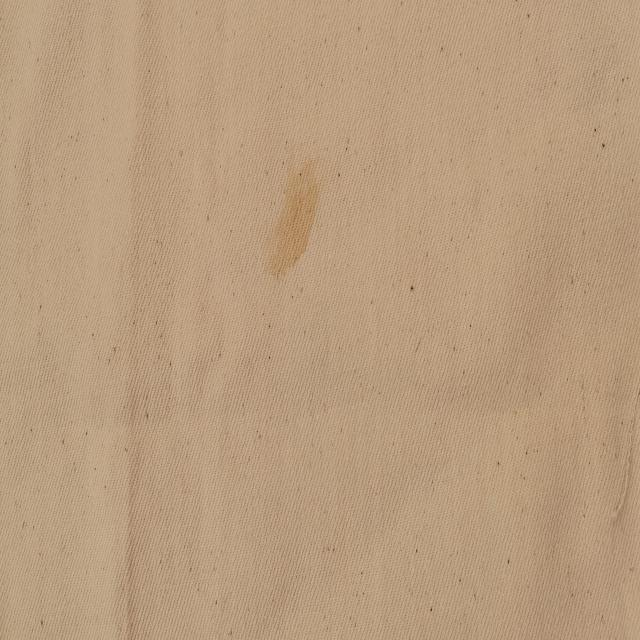taaaches: (263, 157, 323, 287)
